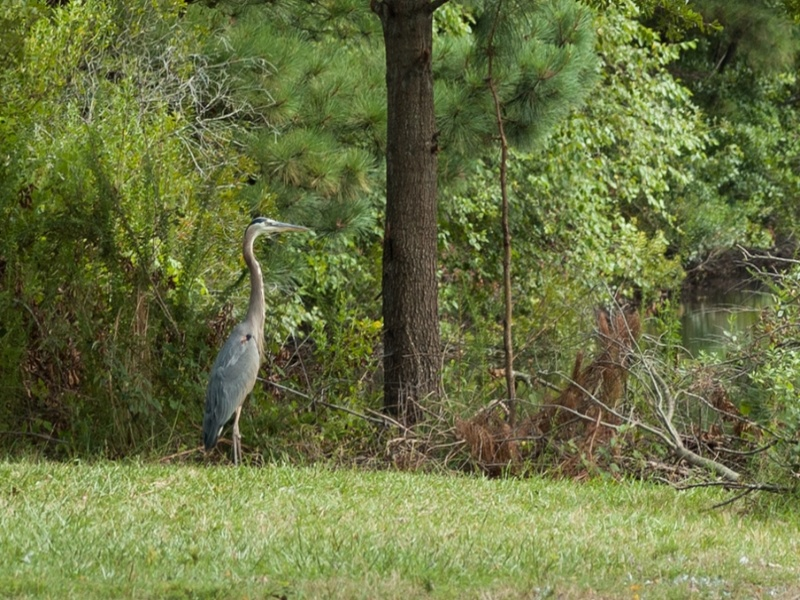heron: (203, 215, 306, 455)
